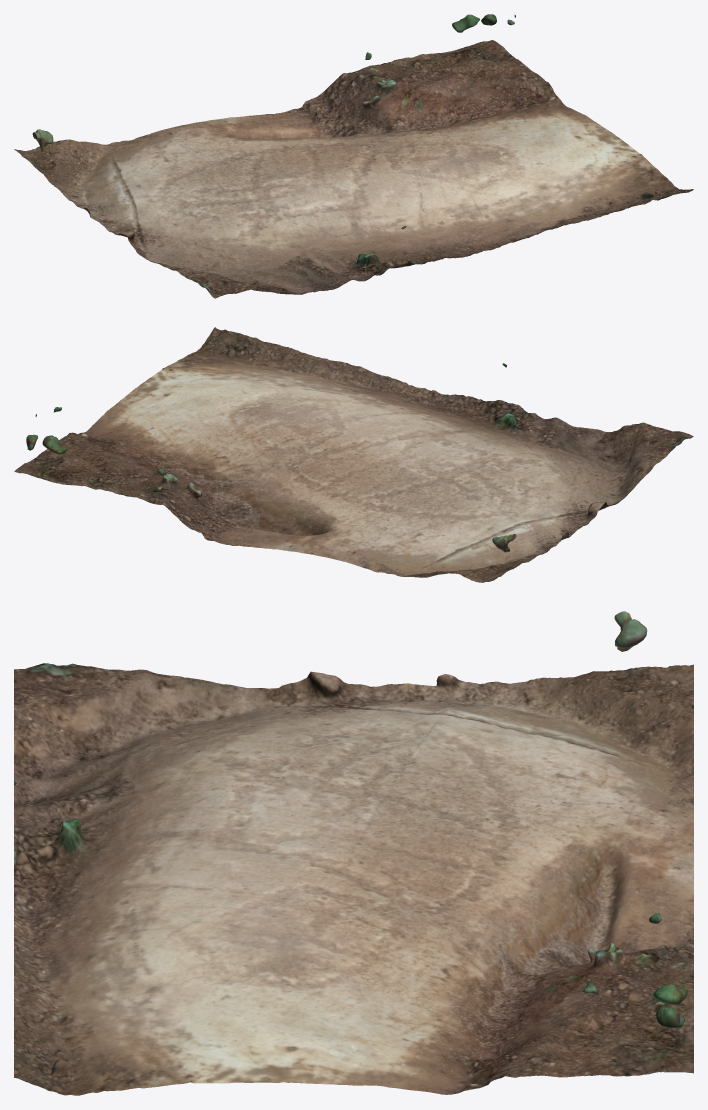
The model's file is dalle-01.glb.
3 renders of one model, top to bottom at view 1: azimuth 30°, elevation 25°; view 2: azimuth 150°, elevation 25°; view 3: azimuth 270°, elevation 25°, orthographic. The views are drawn at different scales.
Visible parts, largest first — view 1: Node1; view 2: Node1; view 3: Node1.
Boxes of the visible parts, x1,y1,x2,y2 form: Node1: (14, 14, 693, 298); Node1: (14, 327, 693, 582); Node1: (14, 611, 693, 1095).
Size of the model in its own units: 0.9325 by 0.1422 by 0.6779.
Materials: 1 (1 with a texture image).
